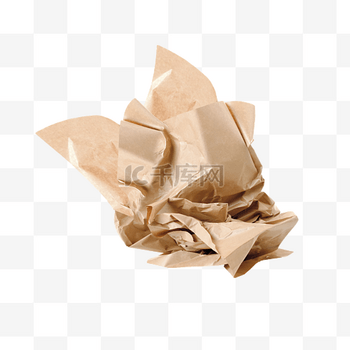Paper: (36, 44, 298, 277)
